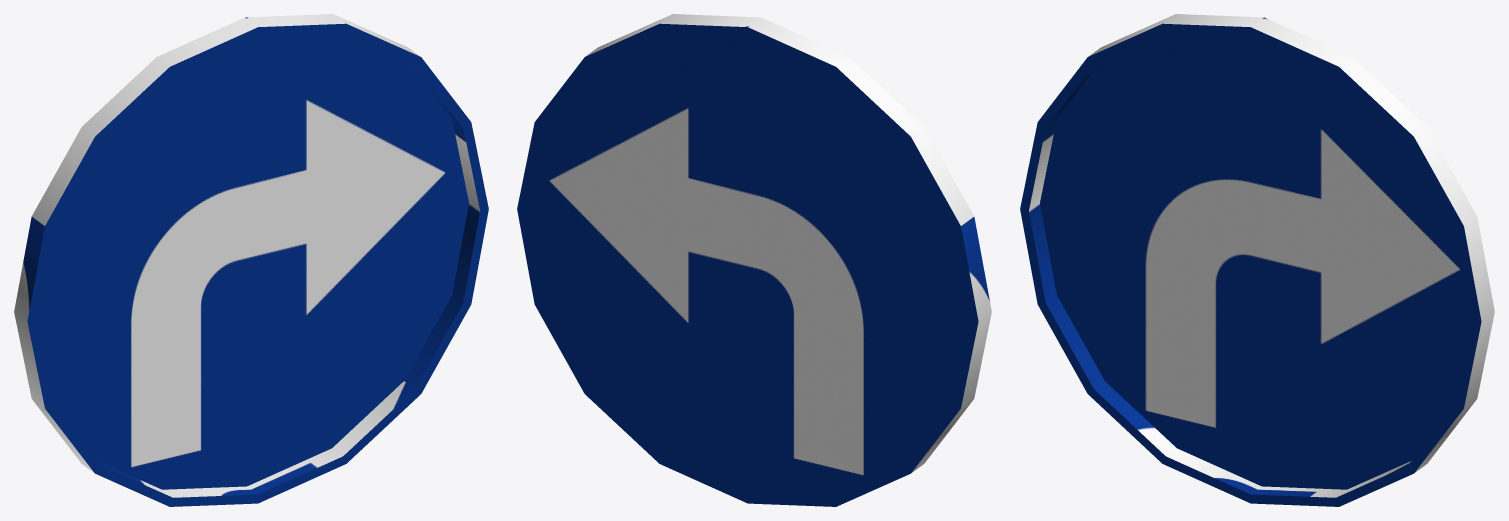
The model's file is lewo.fbx.
3 views of the same model, side by side, from view 1: azimuth 30°, elevation 25°; view 2: azimuth 150°, elevation 25°; view 3: azimuth 330°, elevation 25° (orthographic).
Parts seen in each view (by area): view 1: Prohibition_MaximumHeight_LOD0; view 2: Prohibition_MaximumHeight_LOD0; view 3: Prohibition_MaximumHeight_LOD0.
Part boxes in pixels (box(x1,y1,x2,y2)): Prohibition_MaximumHeight_LOD0: box(14, 14, 488, 506); Prohibition_MaximumHeight_LOD0: box(517, 14, 991, 506); Prohibition_MaximumHeight_LOD0: box(1020, 14, 1494, 506).
Bounding box in the file's own units: 70.96 × 70 × 3.55.
